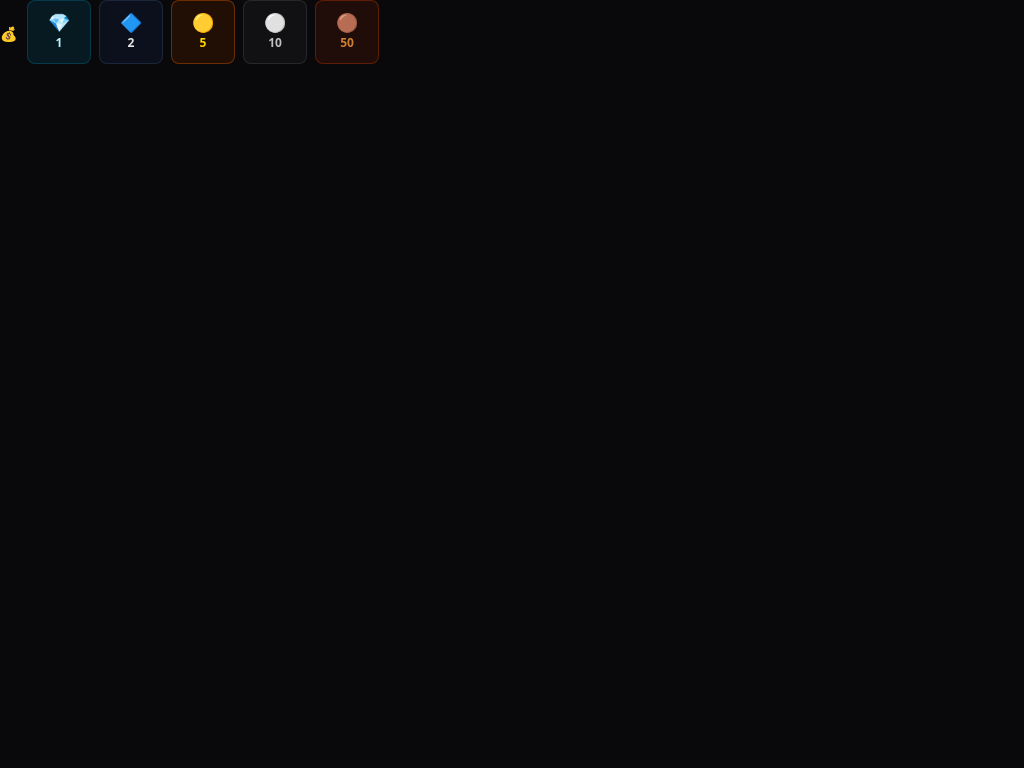
Test: CurrencyPouch › pre-selects the clicked coin as the source
This screenshot has width=1024, height=768.
Click the button named "Prata: 10" at coordinates (275, 32), box [243, 0, 307, 64]
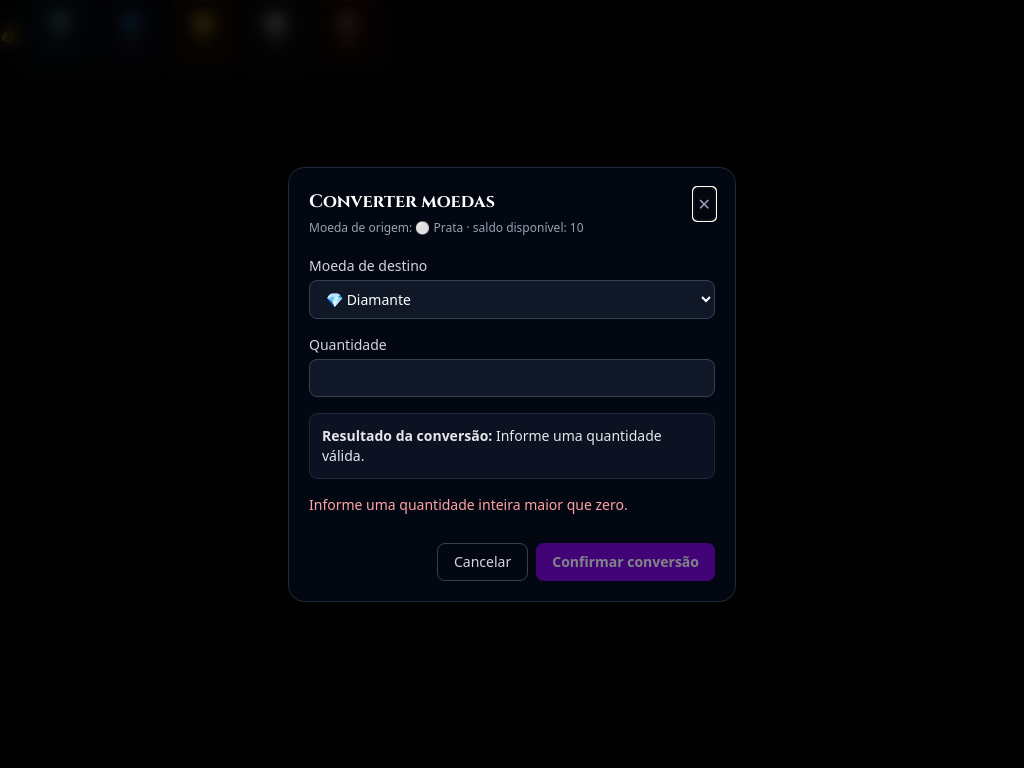
Check: the text "Moeda de origem: ⚪ Prata · saldo disponível: 10" is shown, box [309, 220, 584, 236]
Check: the dropdown labelled "Moeda de destino" shows "💎 Diamante", box [309, 280, 715, 318]
